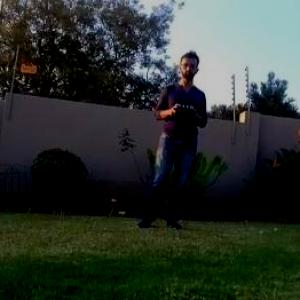follow: (133, 39, 211, 227)
